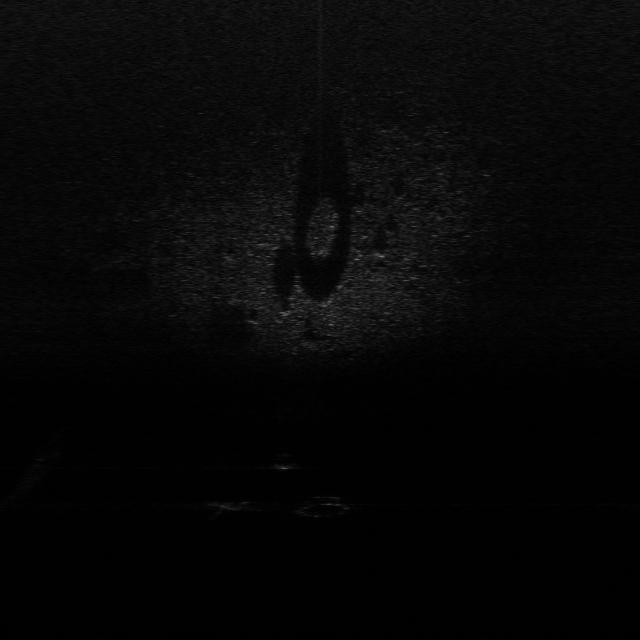ball: (272, 450, 299, 471)
square cage: (203, 488, 258, 521)
tyre: (294, 494, 358, 522)
